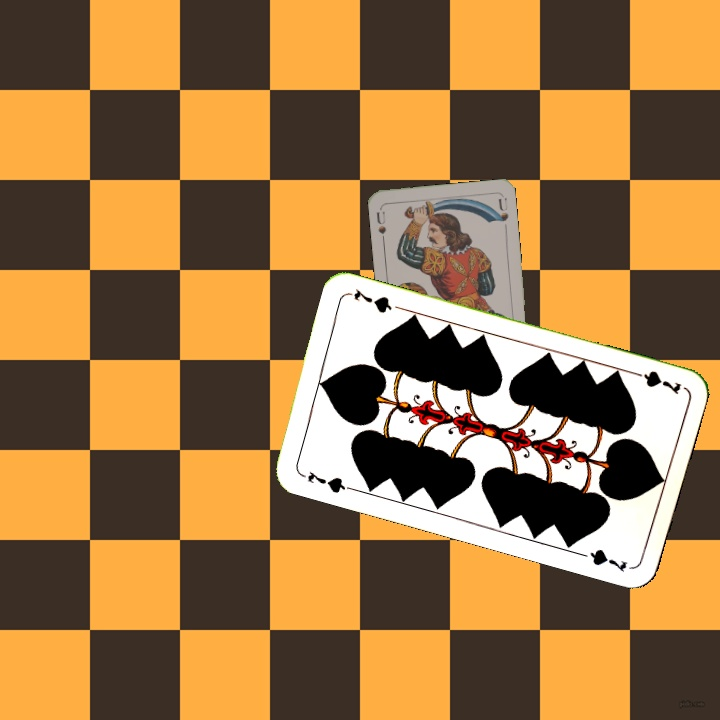G7: (626, 366, 684, 397), (296, 467, 354, 496)
SU: (372, 204, 388, 245)
